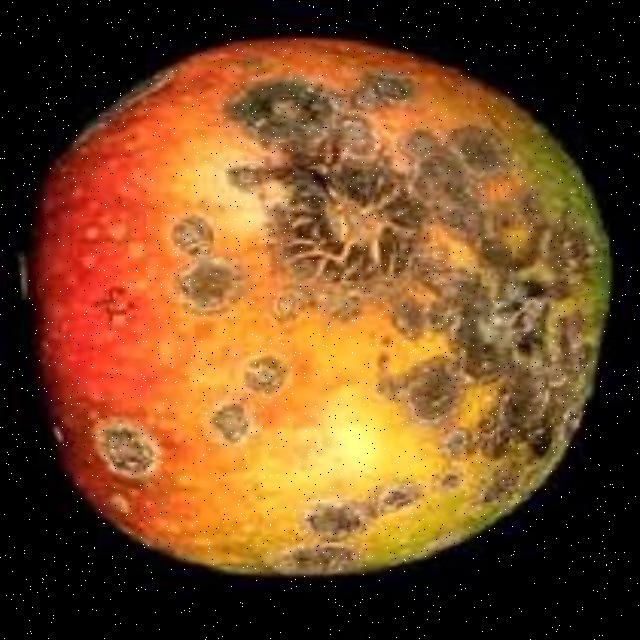SCAB: (50, 14, 638, 598)
